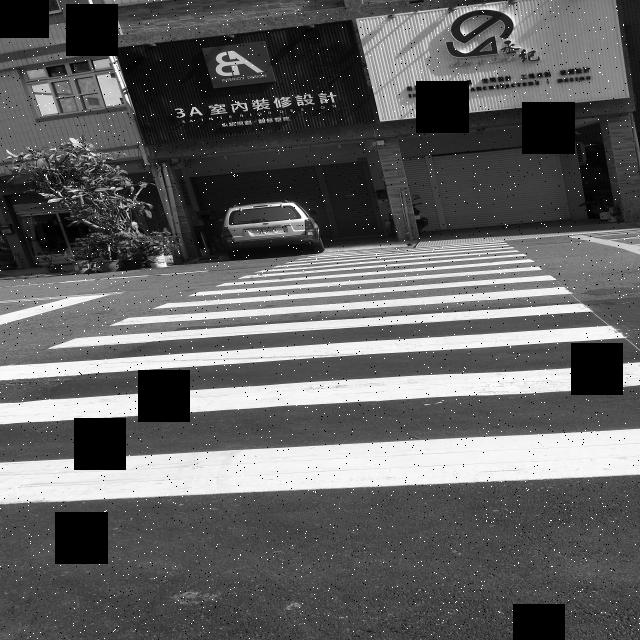zebra_crossing: (0, 244, 640, 510)
